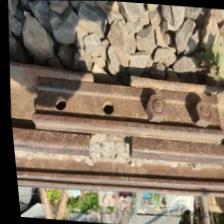person: (74, 116, 142, 170), (77, 57, 143, 101)
